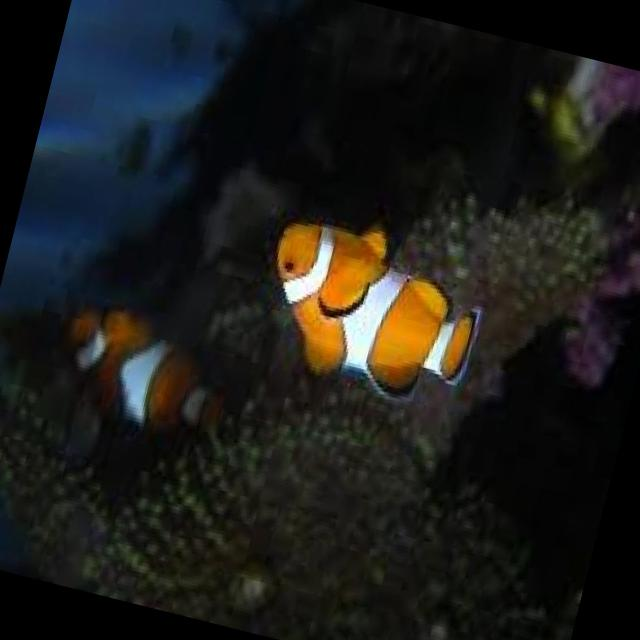ClownFish: (245, 205, 495, 414), (45, 294, 242, 451)
